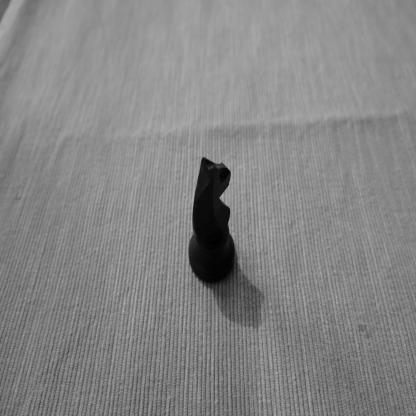black-knight: (188, 156, 236, 284)
